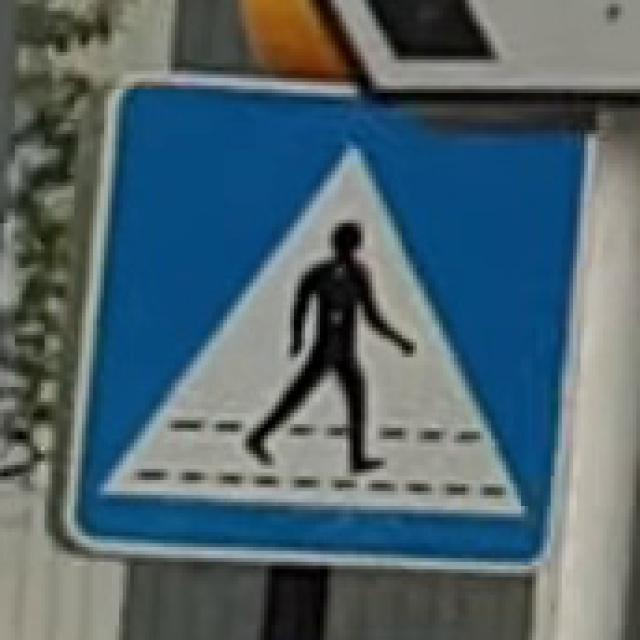zebracrossing_sign: (45, 72, 595, 574)
